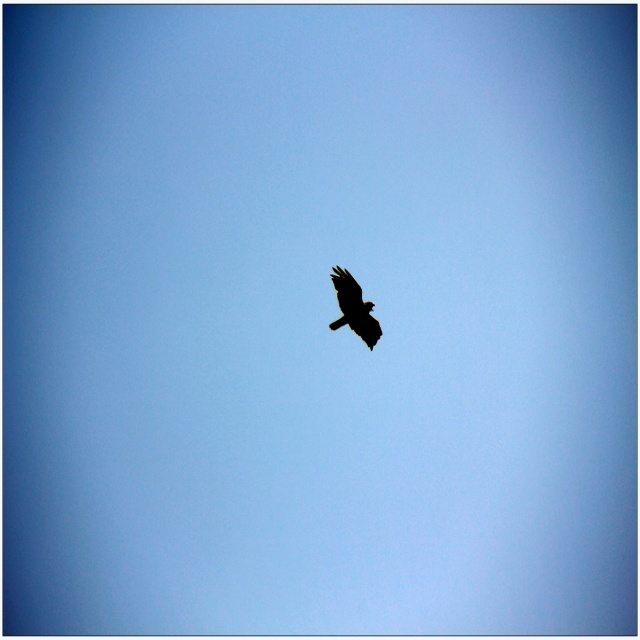Eagle: (328, 264, 381, 359)
